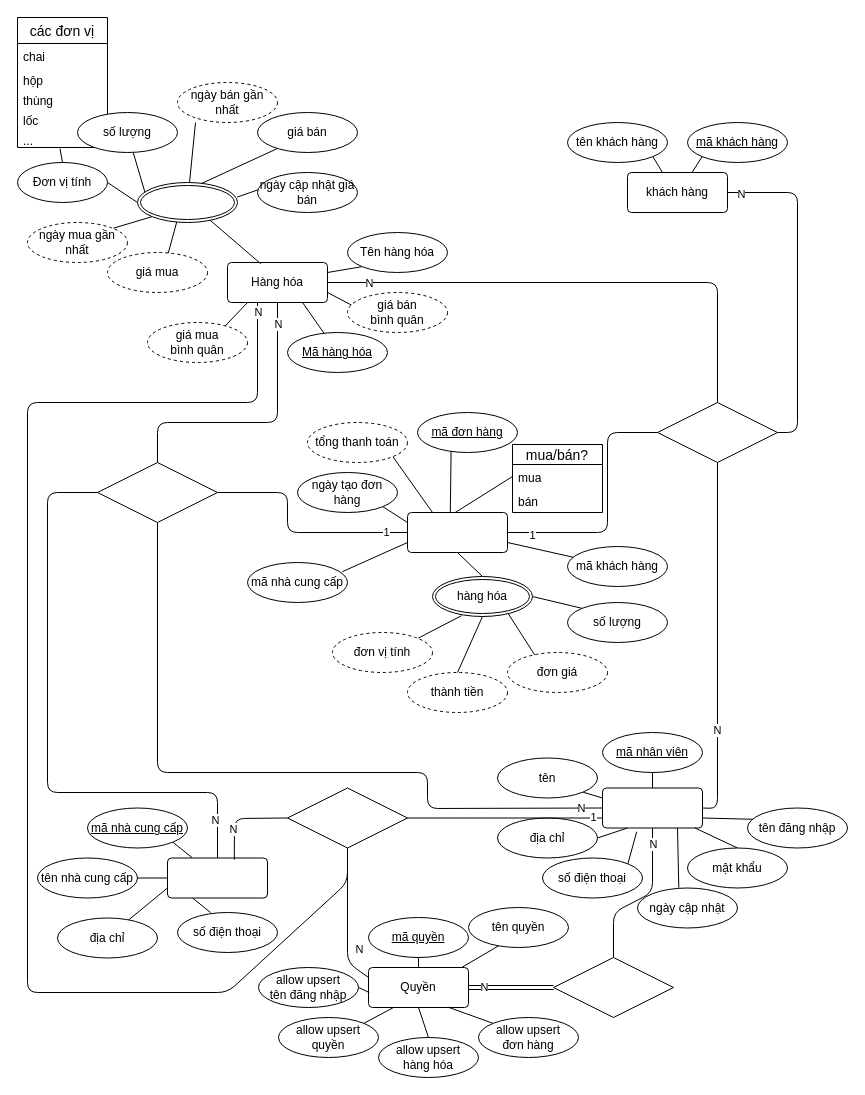
The diagram is 865 pixels wide and 1095 high, and some of its shapes have lost their labels. Each missing label, with the centre of its shape:
bán hàng: point 717,432
Bảng giá: point 187,202
cấp quyền: point 613,987
nhà cung cấp: point 217,877
Nhân viên: point 652,807
nhập hàng: point 157,492
quản lý: point 347,817
Đơn hàng: point 457,532
